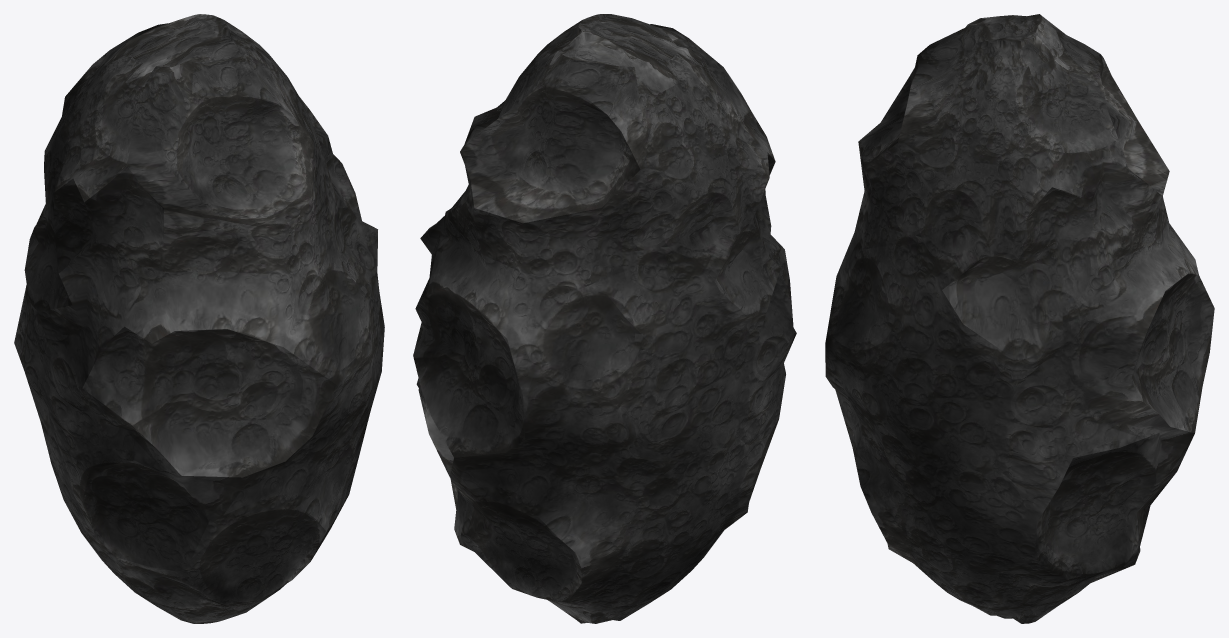
File: Asteroid.fbx
3 views of the same model, side by side, from view 1: azimuth 30°, elevation 25°; view 2: azimuth 150°, elevation 25°; view 3: azimuth 270°, elevation 25° (orthographic). The views are drawn at different scales.
Visible parts, largest first — view 1: pSphere1; view 2: pSphere1; view 3: pSphere1.
Boxes of the visible parts, x1,y1,x2,y2 form: pSphere1: (14, 14, 384, 623); pSphere1: (413, 14, 796, 623); pSphere1: (825, 14, 1214, 623).
Size of the model in its own units: 11.06 by 18.5 by 11.21.
